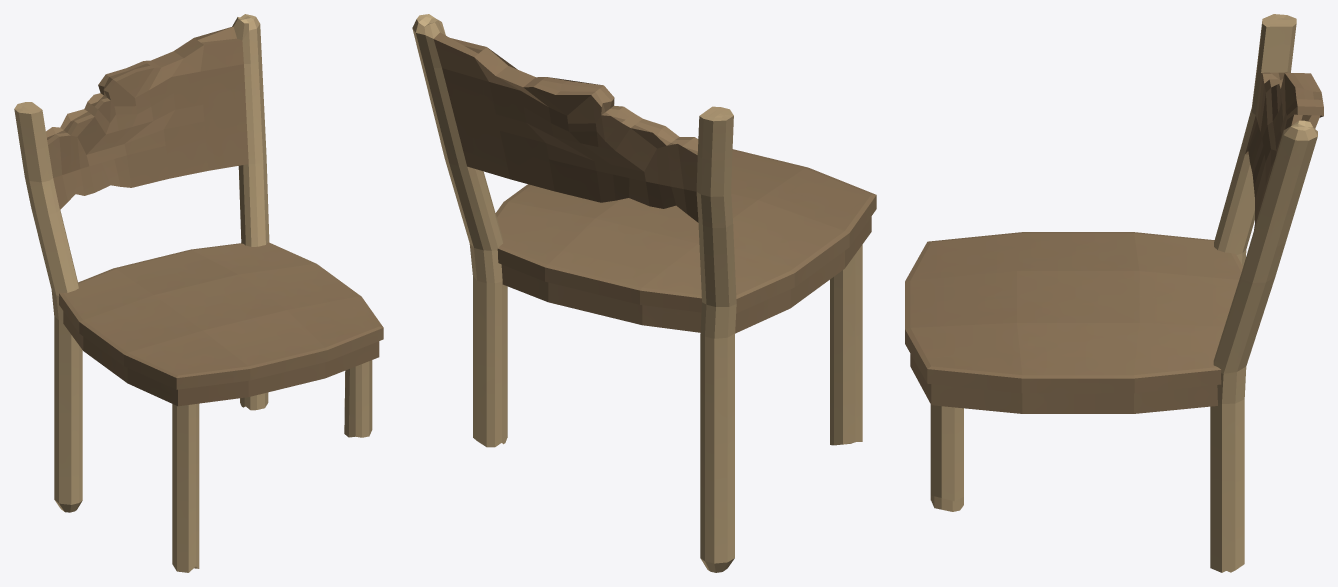
The model's file is chair_1_destroyed_3.glb.
3 renders of one model, left to right at view 1: azimuth 30°, elevation 25°; view 2: azimuth 150°, elevation 25°; view 3: azimuth 270°, elevation 25°, orthographic. The views are drawn at different scales.
Parts seen in each view (by area): view 1: chair_1_destroyed_3; view 2: chair_1_destroyed_3; view 3: chair_1_destroyed_3.
Boxes of the visible parts, x1,y1,x2,y2 form: chair_1_destroyed_3: [14, 14, 383, 572]; chair_1_destroyed_3: [412, 14, 876, 572]; chair_1_destroyed_3: [905, 14, 1323, 572].
Bounding box in the file's own units: 0.4672 × 0.7494 × 0.5374.
1 material, 1 textured.
